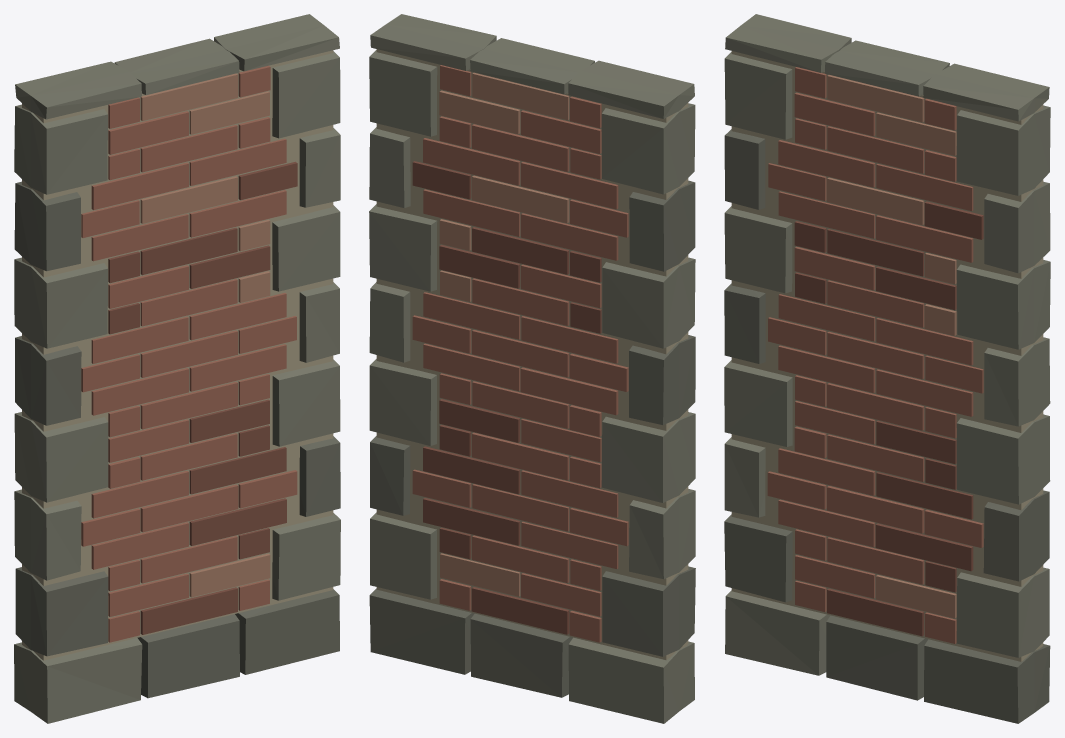
The model's file is wall_brick_quoin.glb.
3 renders of one model, left to right at view 1: azimuth 30°, elevation 25°; view 2: azimuth 150°, elevation 25°; view 3: azimuth 330°, elevation 25°, orthographic.
Visible parts, largest first — view 1: Wall_Brick_Quoin; view 2: Wall_Brick_Quoin; view 3: Wall_Brick_Quoin.
Part boxes in pixels (bbox=[...]): Wall_Brick_Quoin: bbox=[14, 14, 340, 723]; Wall_Brick_Quoin: bbox=[369, 14, 695, 723]; Wall_Brick_Quoin: bbox=[724, 14, 1050, 723].
Bounding box in the file's own units: 1.52 × 3.05 × 0.2942.
